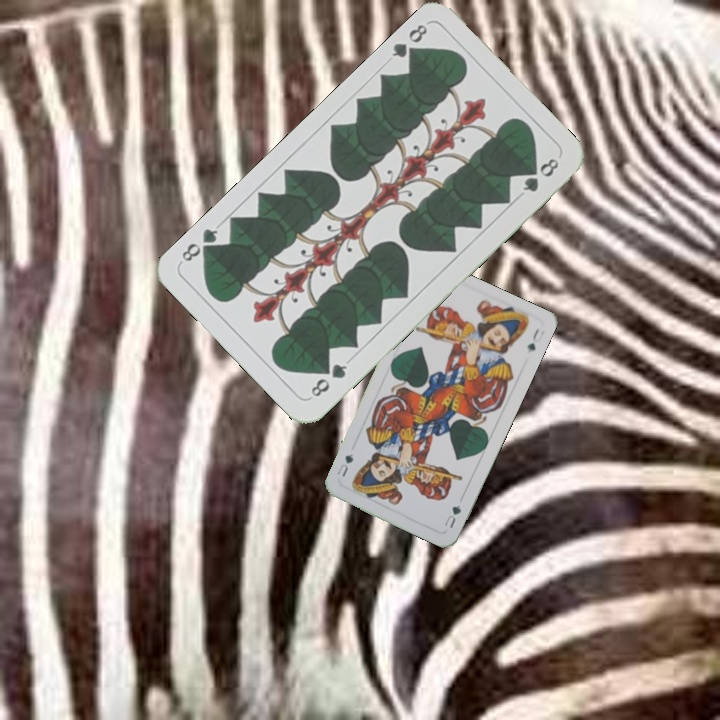G8: (387, 20, 430, 64), (306, 359, 350, 400)
GU: (439, 500, 464, 531)
